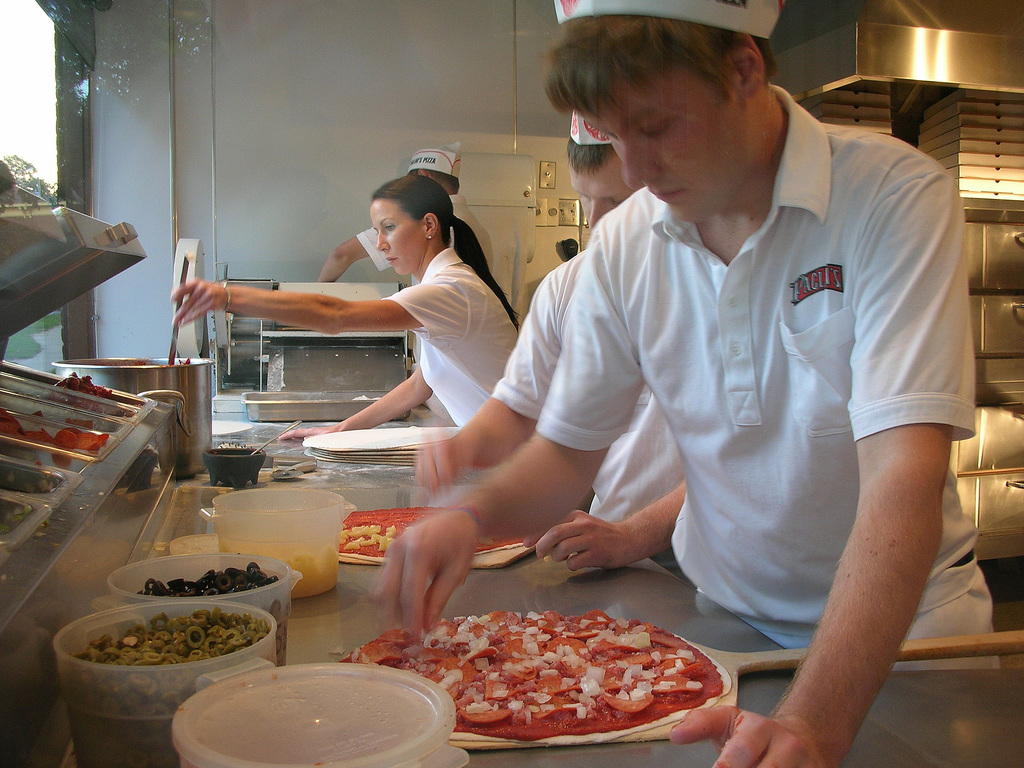pizza: (395, 611, 705, 751)
